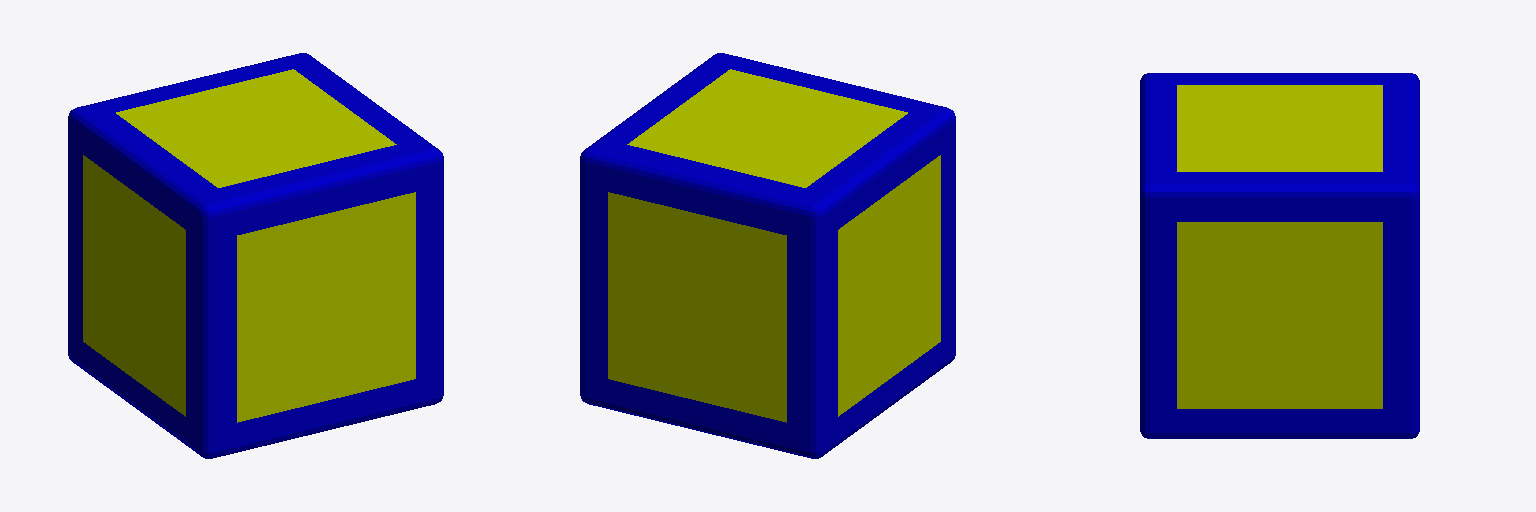
Rendered from 005_Bomb.obj.
The picture shows the model from 3 angles: view 1: azimuth 30°, elevation 25°; view 2: azimuth 150°, elevation 25°; view 3: azimuth 270°, elevation 25°; orthographic projection.
Parts seen in each view (by area): view 1: Cube; view 2: Cube; view 3: Cube.
Part boxes in pixels (bbox=[...]): Cube: bbox=[68, 53, 443, 458]; Cube: bbox=[580, 53, 955, 458]; Cube: bbox=[1140, 73, 1419, 438].
Size of the model in its own units: 0.5729 by 0.5729 by 0.5729.